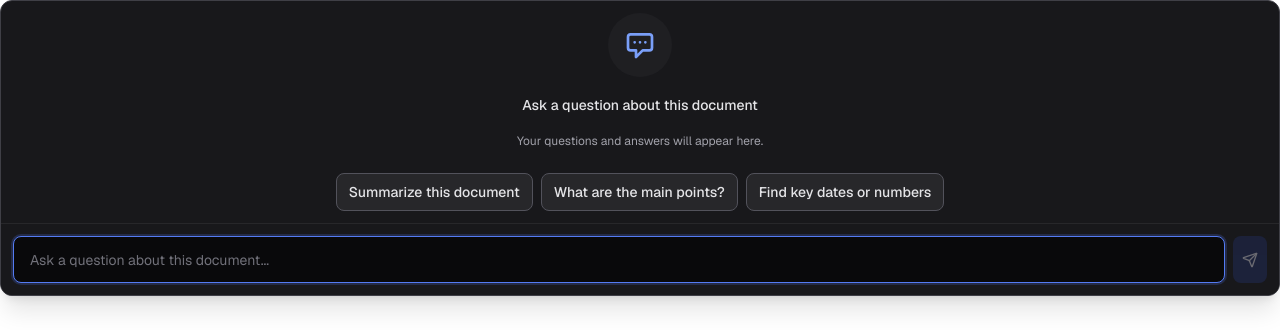
Scenario: ChatWindow streaming lifecycle › does not render copy button while assistant message is streaming
Type "Question" into the text box with placeholder "Ask a question about this document..." at point(619, 260), box [13,236,1225,283]
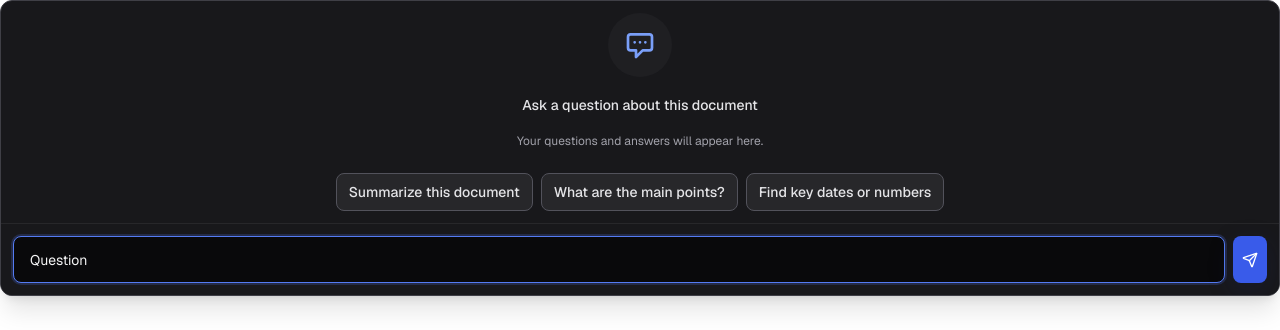
Click the button named "Send message" at point(1250, 260), box [1233,236,1267,283]
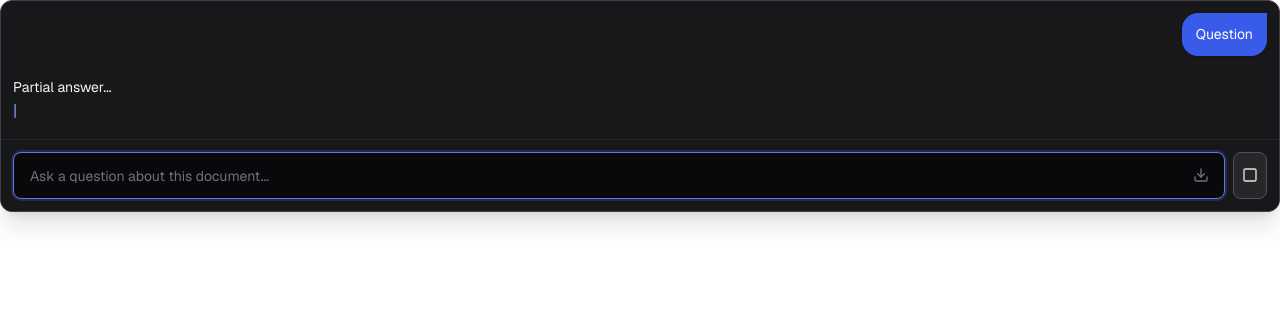
Check: the text "Partial answer..." is shown, box [13,78,112,96]
